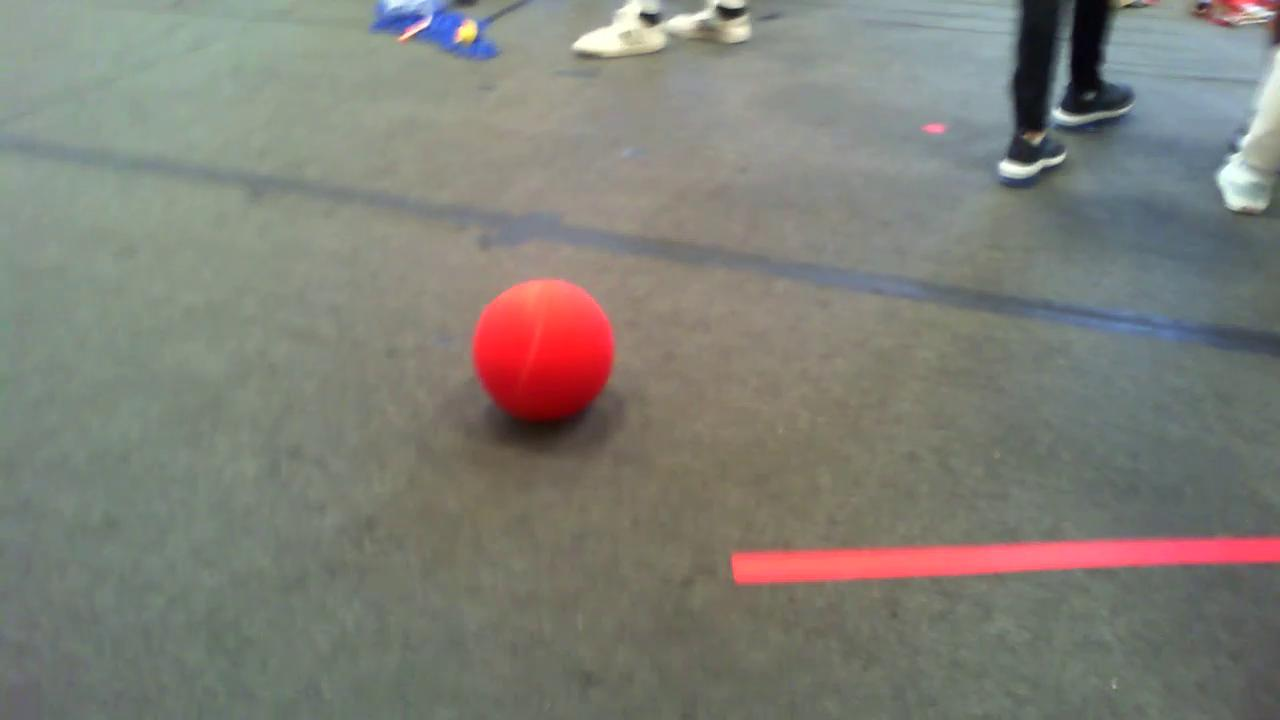Red_Ball: (452, 278, 626, 422)
